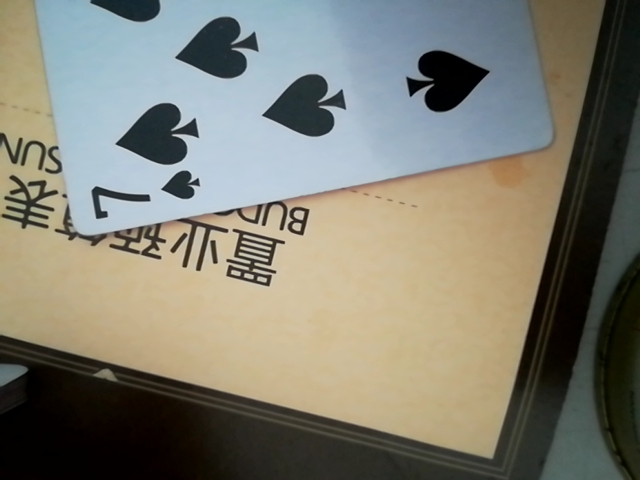ht 7: (29, 0, 567, 236)
